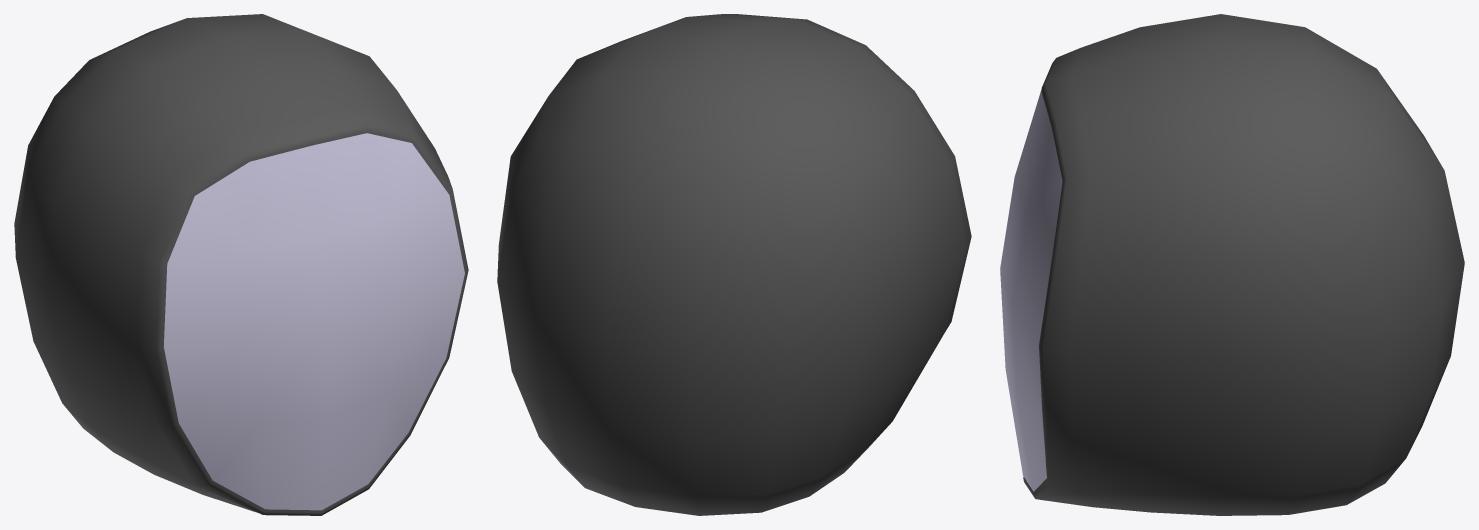
The model's file is helmet.glb.
3 renders of one model, left to right at view 1: azimuth 30°, elevation 25°; view 2: azimuth 150°, elevation 25°; view 3: azimuth 270°, elevation 25°, orthographic. The views are drawn at different scales.
Visible parts, largest first — view 1: Sphere.001, Sphere; view 2: Sphere.001; view 3: Sphere.001, Sphere.
Boxes of the visible parts, x1,y1,x2,y2 form: Sphere.001: [14, 14, 468, 515]; Sphere: [163, 133, 464, 510]; Sphere.001: [497, 14, 971, 515]; Sphere.001: [1023, 14, 1464, 515]; Sphere: [1000, 90, 1062, 491].
Size of the model in its own units: 1.48 by 1.58 by 1.51.
